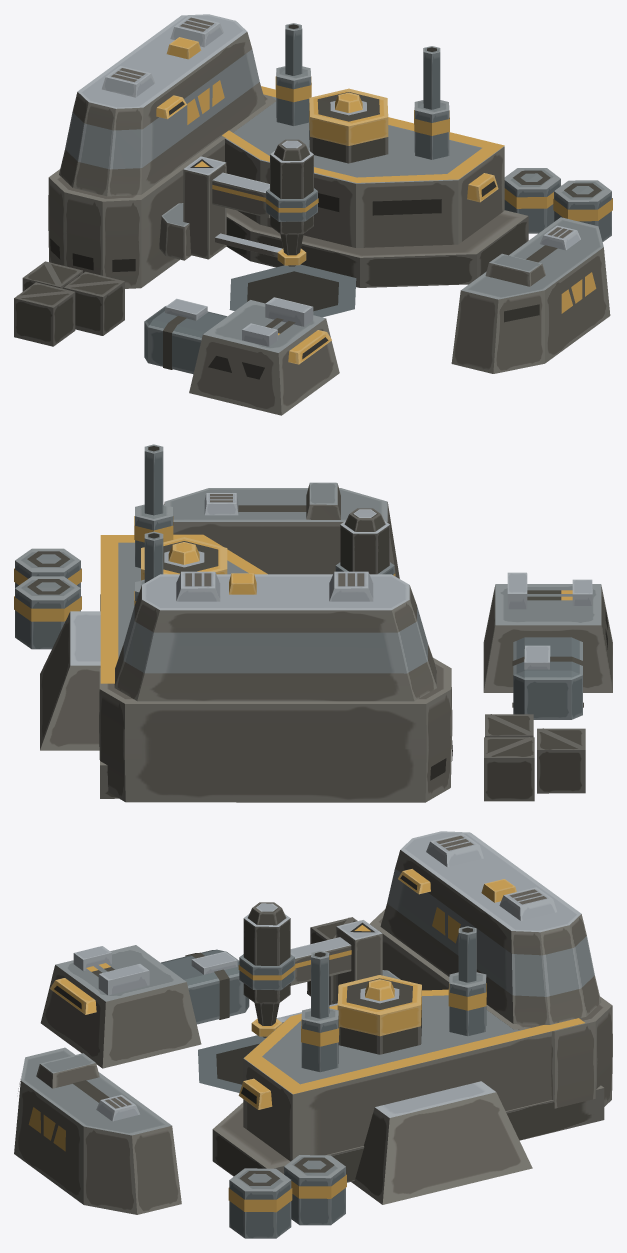
The model's file is mint2.FBX.
3 renders of one model, top to bottom at view 1: azimuth 30°, elevation 25°; view 2: azimuth 150°, elevation 25°; view 3: azimuth 270°, elevation 25°, orthographic. The views are drawn at different scales.
Parts seen in each view (by area): view 1: mint2, a, c, b, d; view 2: mint2, a, c, b, d, e; view 3: mint2, a, c, b.
Boxes of the visible parts, bbox=[...] form: mint2: bbox=[14, 14, 612, 415]; a: bbox=[270, 139, 313, 266]; c: bbox=[423, 46, 440, 109]; b: bbox=[285, 23, 302, 75]; d: bbox=[166, 37, 201, 59]; mint2: bbox=[14, 482, 612, 802]; a: bbox=[340, 508, 389, 574]; c: bbox=[144, 444, 163, 515]; b: bbox=[144, 531, 163, 582]; d: bbox=[229, 573, 256, 594]; e: bbox=[168, 542, 199, 564]; mint2: bbox=[14, 831, 612, 1238]; a: bbox=[243, 902, 290, 1037]; c: bbox=[311, 950, 329, 1018]; b: bbox=[458, 926, 476, 982].
Bounding box in the file's own units: 157 × 139 × 54.98.
